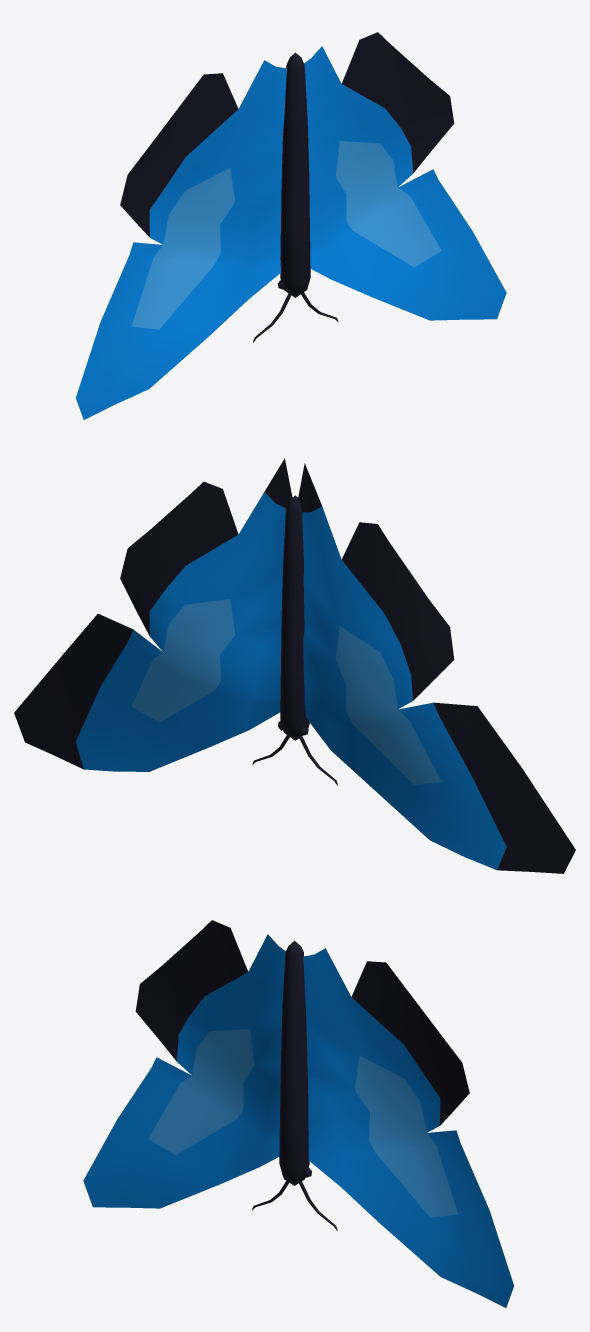
The model's file is titli Butterfly.fbx.
The picture shows the model from 3 angles, top to bottom: view 1: azimuth 30°, elevation 25°; view 2: azimuth 150°, elevation 25°; view 3: azimuth 330°, elevation 25°; orthographic projection.
Parts seen in each view (by area): view 1: imagetostl_mesh1, imagetostl_mesh0, imagetostl_mesh2; view 2: imagetostl_mesh1, imagetostl_mesh0, imagetostl_mesh2; view 3: imagetostl_mesh1, imagetostl_mesh0, imagetostl_mesh2.
Boxes of the visible parts, <box> form: imagetostl_mesh1: <box>76,46,506,419</box>; imagetostl_mesh0: <box>120,32,454,342</box>; imagetostl_mesh2: <box>131,141,441,329</box>; imagetostl_mesh1: <box>76,492,506,869</box>; imagetostl_mesh0: <box>14,458,575,873</box>; imagetostl_mesh2: <box>131,599,441,784</box>; imagetostl_mesh1: <box>83,934,513,1307</box>; imagetostl_mesh0: <box>135,920,469,1230</box>; imagetostl_mesh2: <box>148,1029,458,1217</box>.
Size of the model in its own units: 20998 by 12718 by 1468.
